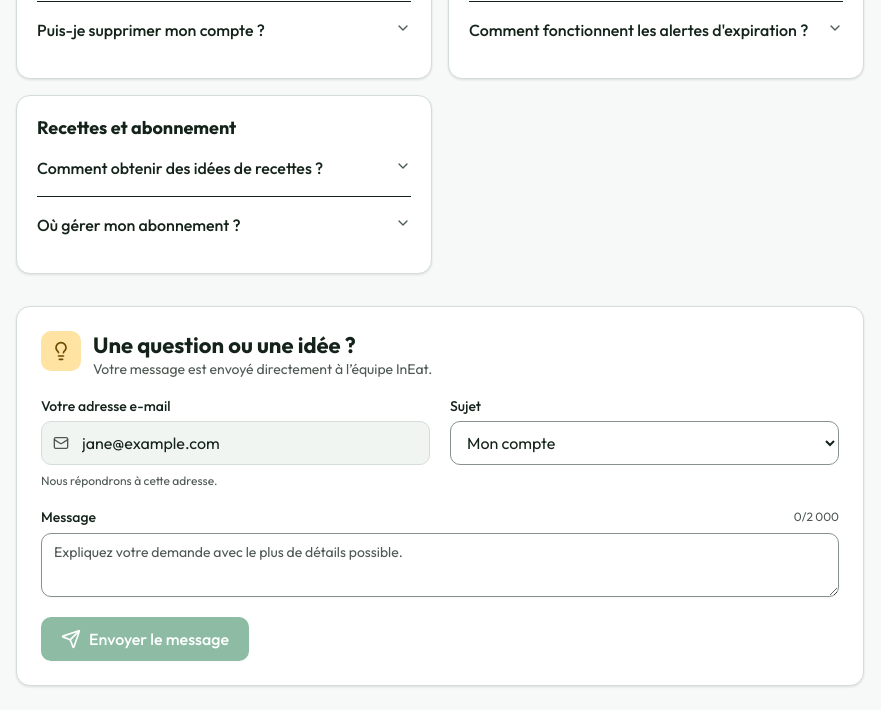
Test: HelpPage › adapts the placeholder and sends the selected category
(page scrolled)
Select "Proposer une fonctionnalité" in the dropdown labelled "Sujet": (644, 443) [450,421,839,465]
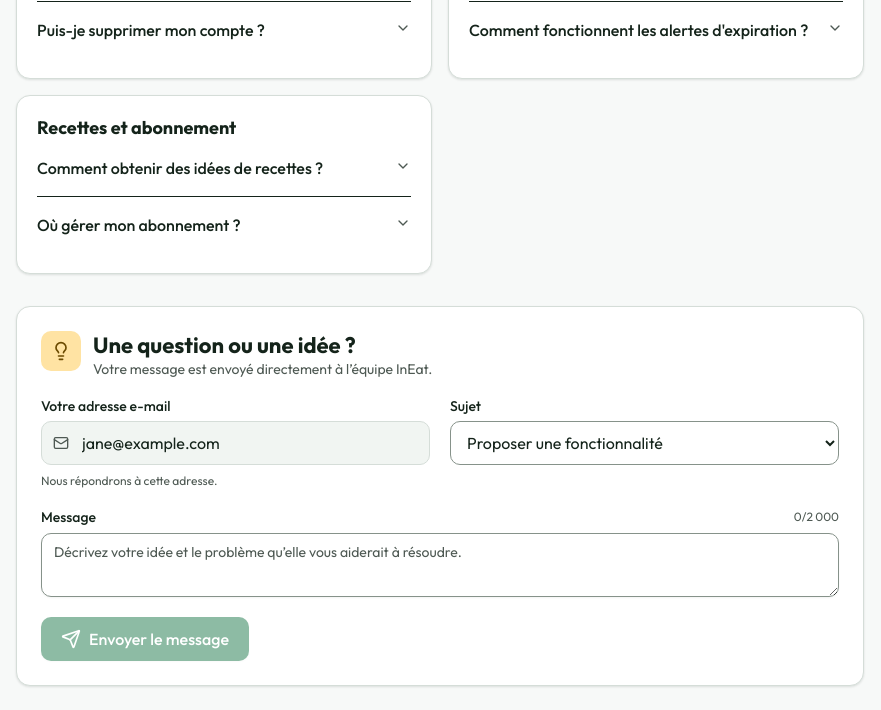
Expected: the text box labelled "Message" has attribute placeholder="Décrivez votre idée et le problème qu’elle vous aiderait à résoudre."
Replace the text in the text box labelled "Message" with "Je souhaite partager ma liste avec ma famille.": (440, 565) [41,533,839,597]
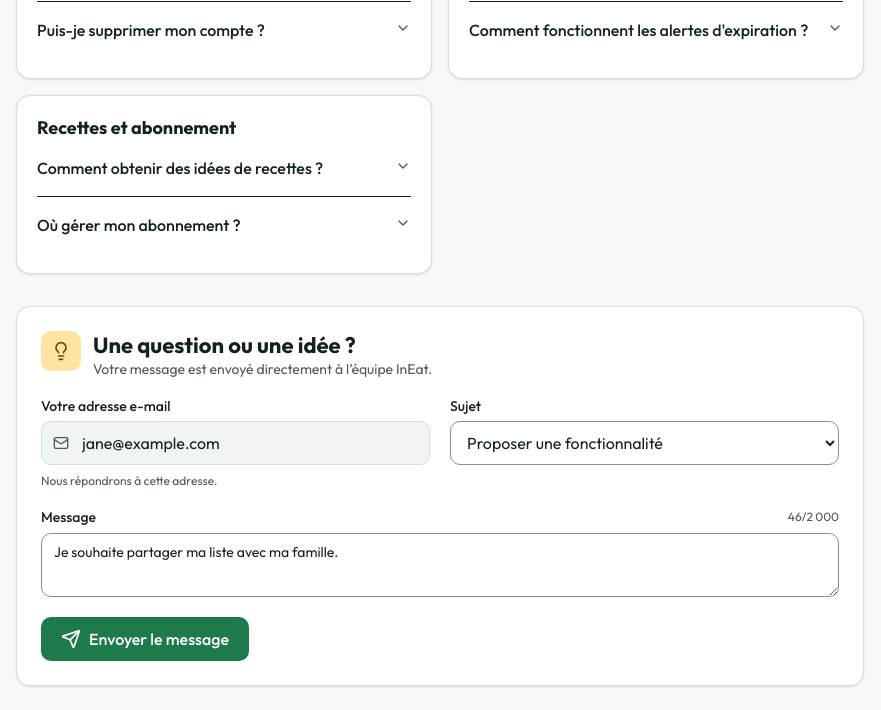
Click the button "Envoyer le message": (145, 639) [41,617,249,661]
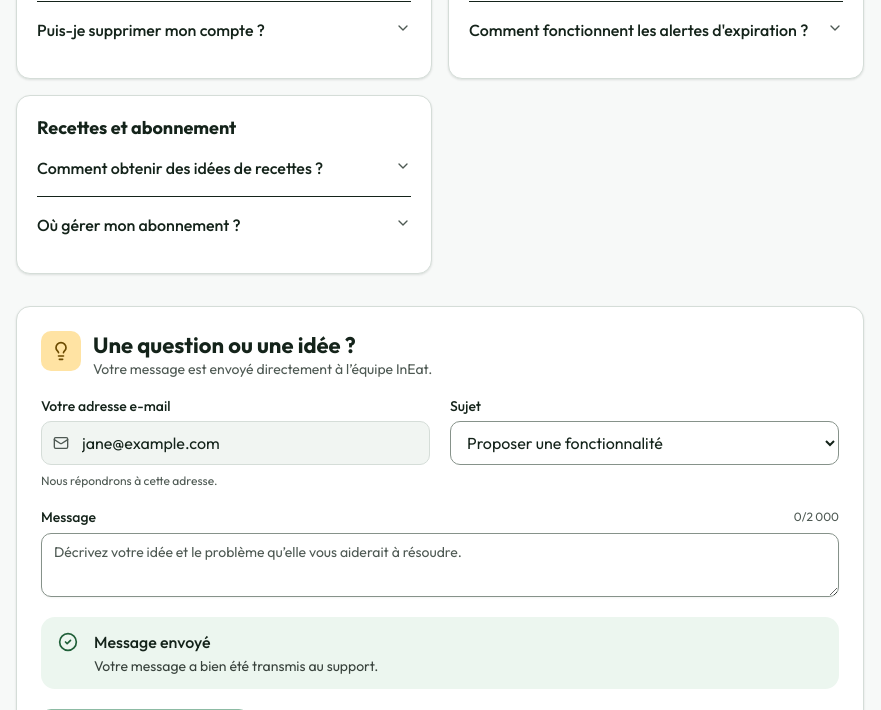
Expected: the text "Message envoyé" is shown, [94,632,210,652]
